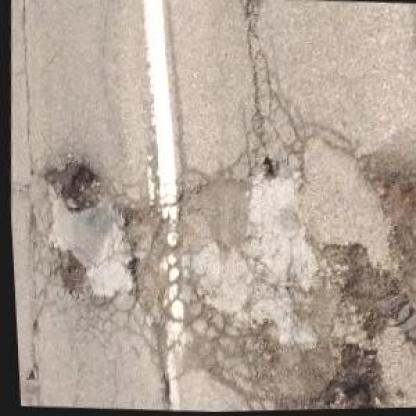pothole: (331, 239, 408, 330), (311, 337, 381, 409), (42, 158, 102, 214), (50, 248, 89, 294), (255, 154, 279, 179)
